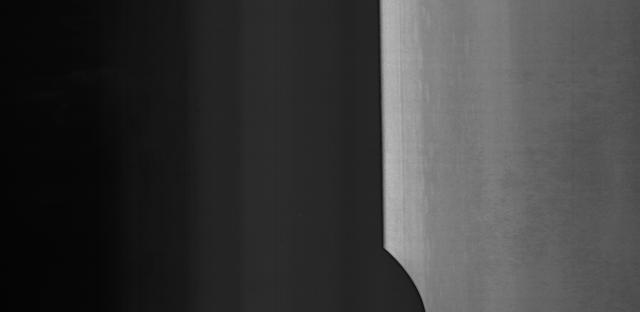crescent_gap: (374, 241, 434, 312)
